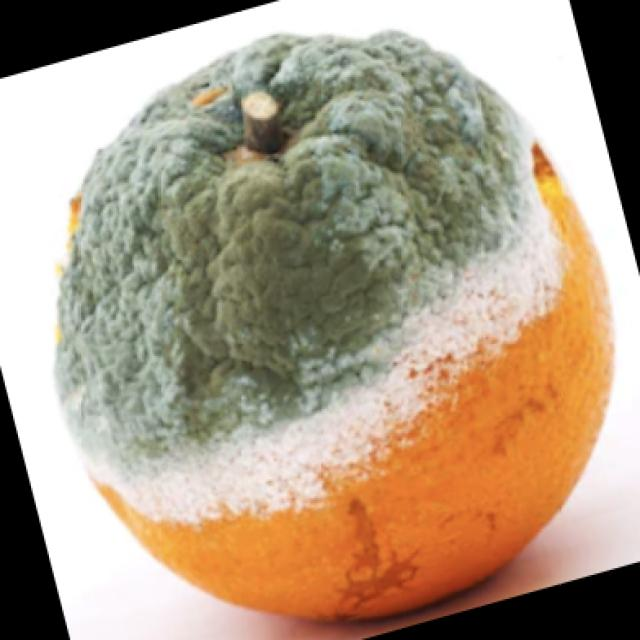sangat_busuk: (58, 27, 617, 622)
